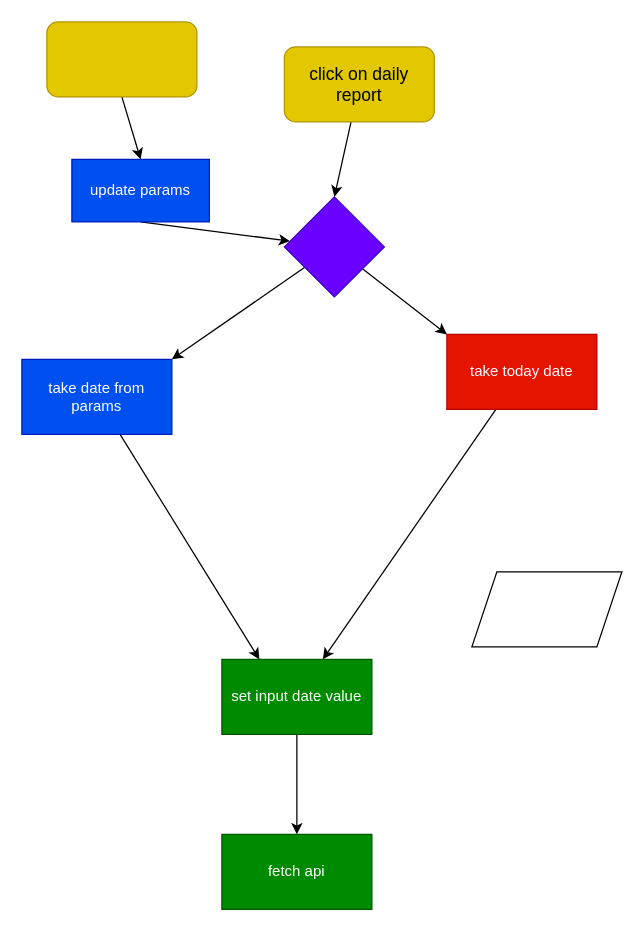
The diagram is 644 pixels wide and 931 high, and some of its shapes have lost their labels. The shapes that lost their labels are listed below. From the top down, each one's centre as x and y in pixels, then its label:
At point (121, 59): "change date".
At point (333, 246): "there is date in params".
At point (546, 609): "ch".
